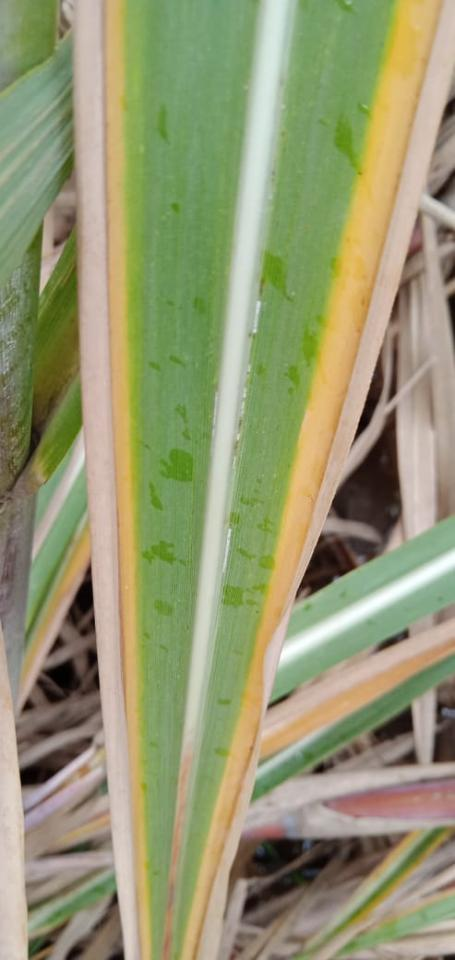RedRot: (160, 735, 195, 959)
Rust: (228, 359, 254, 468), (250, 276, 269, 339), (221, 523, 237, 575)
Yellow: (181, 0, 454, 959), (77, 0, 153, 959)
